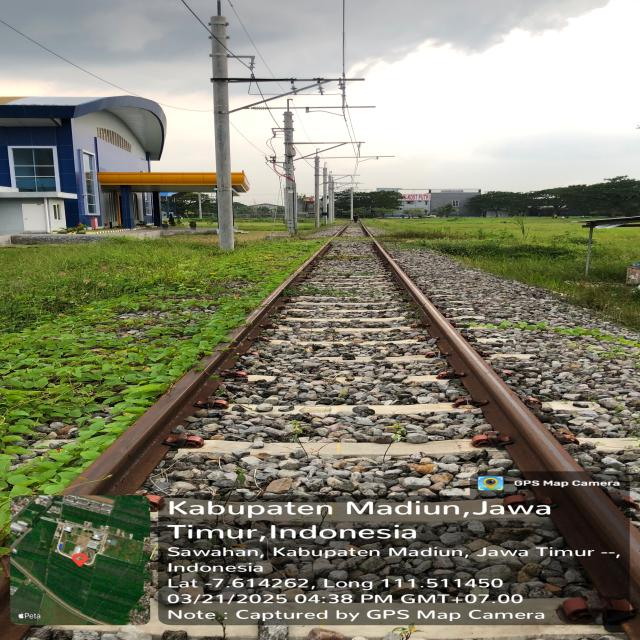rail-detection: (372, 242, 640, 606), (64, 242, 332, 494)
